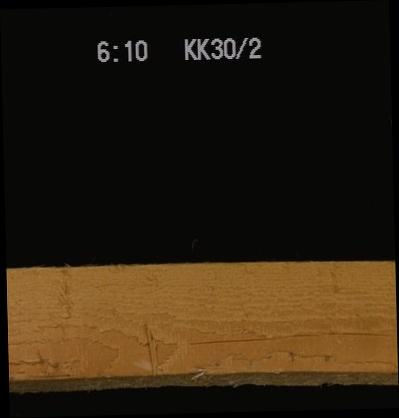split: (8, 372, 398, 389)
